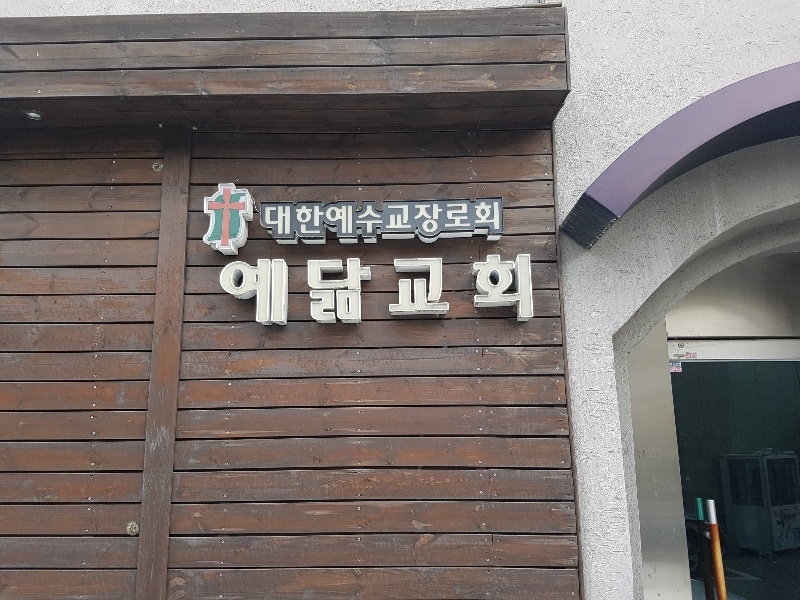text: (225, 255, 240, 327), (241, 255, 256, 327), (257, 255, 272, 327), (273, 255, 288, 327), (289, 255, 304, 327), (305, 255, 320, 327), (321, 255, 336, 327), (337, 255, 352, 327), (353, 255, 368, 327), (369, 255, 384, 327), (385, 255, 400, 327), (401, 255, 416, 327), (417, 255, 432, 327), (433, 255, 448, 327), (449, 255, 464, 327), (465, 255, 480, 327), (481, 255, 496, 327), (497, 255, 512, 327), (513, 255, 528, 327), (273, 199, 288, 245), (289, 199, 304, 245), (305, 199, 320, 245), (321, 199, 336, 245), (337, 199, 352, 245), (353, 199, 368, 245), (369, 199, 384, 245), (385, 199, 400, 245), (401, 199, 416, 245), (417, 199, 432, 245), (433, 199, 448, 245), (449, 199, 464, 245), (465, 199, 480, 245), (481, 199, 496, 245), (261, 199, 272, 245), (529, 255, 534, 327), (497, 199, 504, 245), (221, 255, 224, 327), (680, 343, 688, 347), (673, 367, 681, 371), (689, 354, 696, 358), (673, 363, 680, 366), (673, 370, 680, 372), (689, 358, 697, 359), (670, 363, 672, 366), (687, 354, 688, 358), (671, 370, 672, 372), (687, 358, 688, 359)
